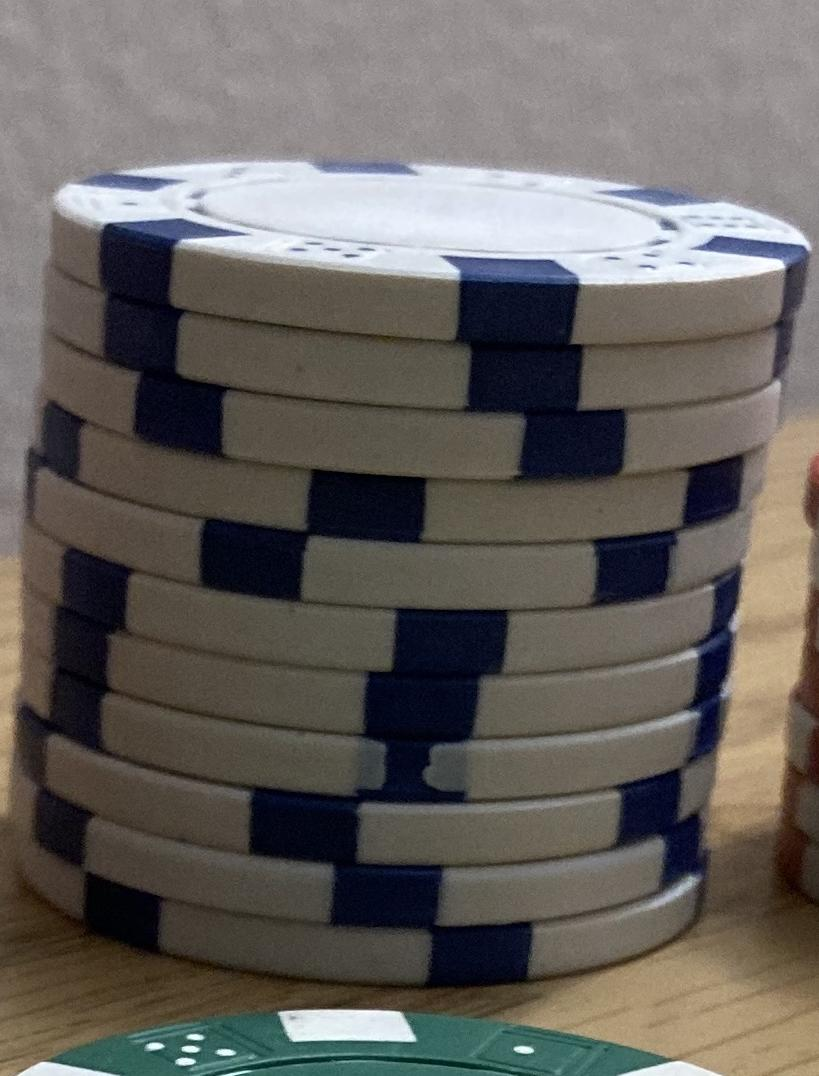Chip: (1, 1, 819, 1076)
